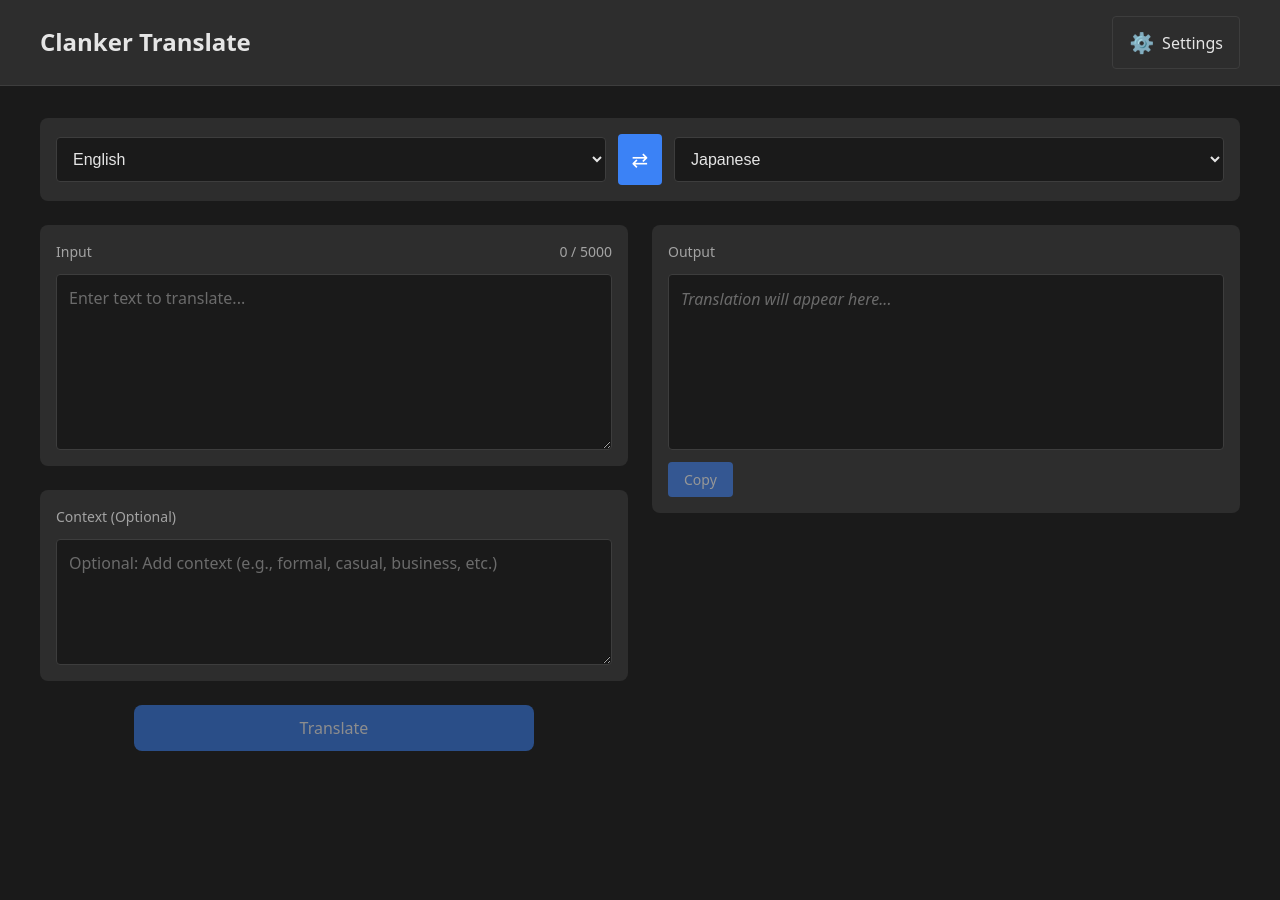
Test case: TranslationInterface › Translation Flow › should display loading state during translation
Note: Enter text
Type "Hello world" into the text box named "input text" at (334, 362), box [56, 274, 612, 450]
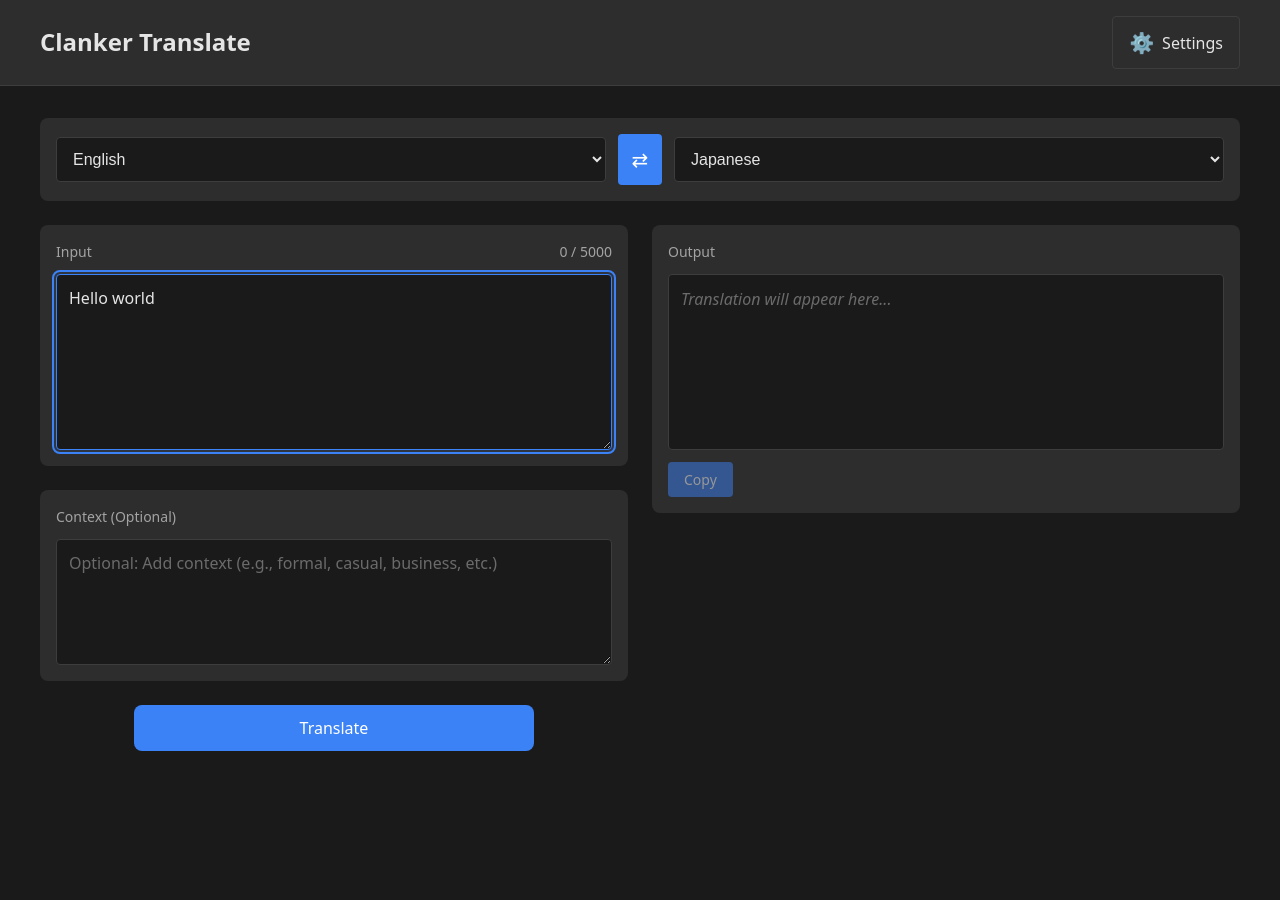
Note: Click translate
Click the button with aria-label "translate text" at (334, 728), box [134, 705, 534, 751]
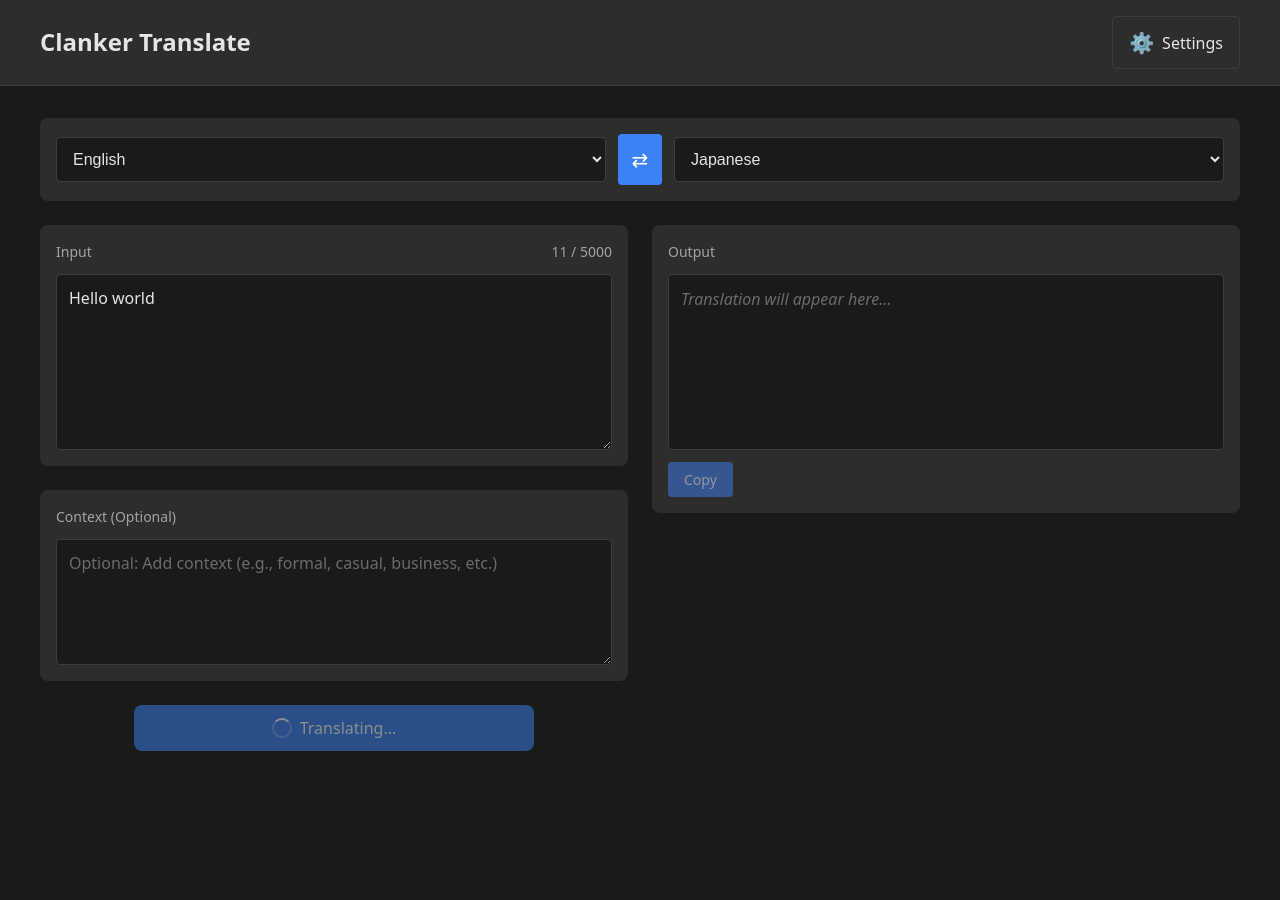
Check: the button "Translating..." is shown, box [272, 717, 396, 739]
Check: the button with aria-label "translate text" is disabled, box [134, 705, 534, 751]
